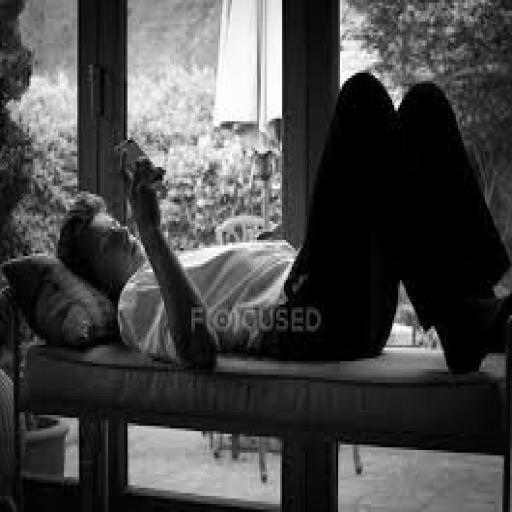texting: (54, 68, 510, 378)
